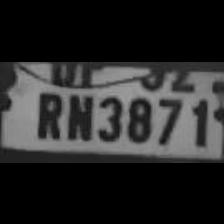1: (183, 93, 211, 147)
2: (163, 62, 201, 90)
3: (94, 90, 122, 140), (132, 61, 166, 87)
7: (152, 91, 184, 145)
8: (122, 92, 153, 142)
N: (61, 90, 92, 140)
P: (71, 61, 119, 87)
R: (29, 86, 62, 138)
U: (44, 62, 78, 84)
